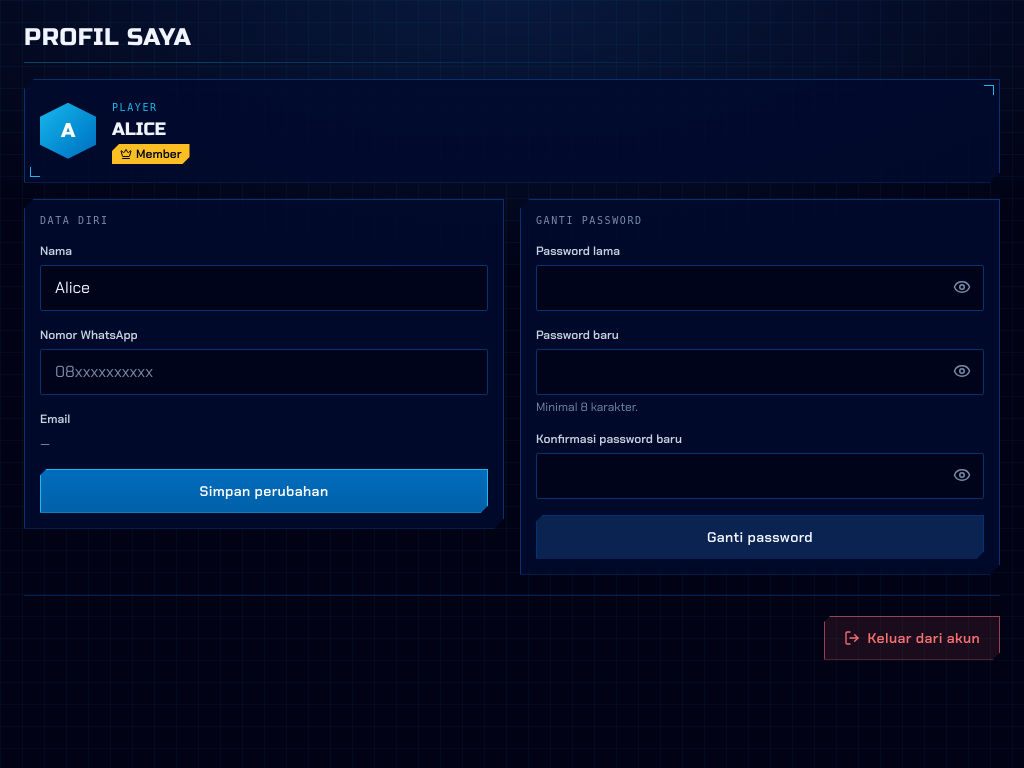
Test: ResetPasswordView › 2c review fixes › rate limit (429) shows the server message
Type "salah1234" into the password field labelled "Password lama" at (760,288), box [536,264,984,310]
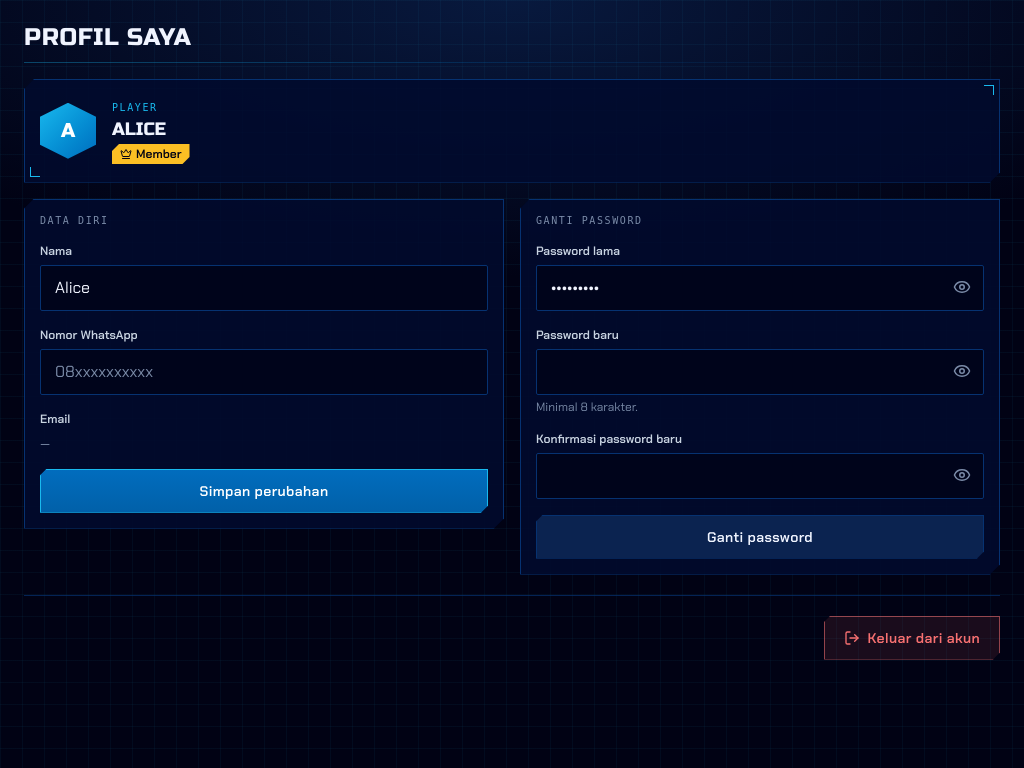
Type "passwordbaru1" into the password field labelled "Password baru" at (760,372), box [536,348,984,394]
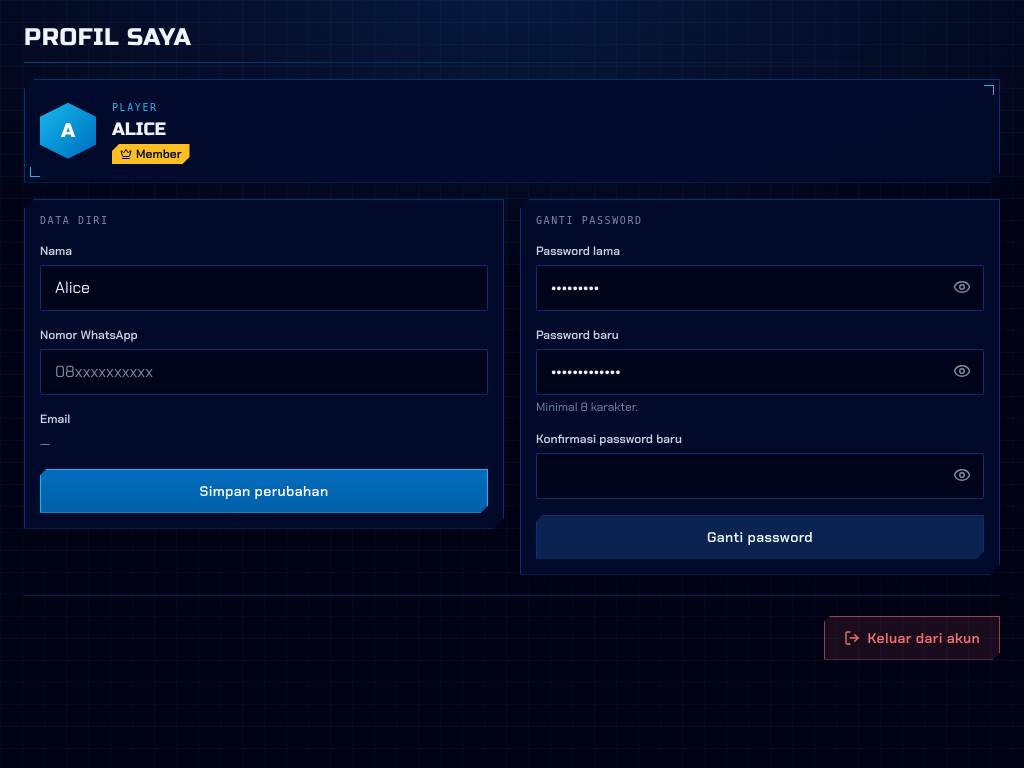
Type "passwordbaru1" into the password field labelled "Konfirmasi password baru" at (760,476), box [536,452,984,498]
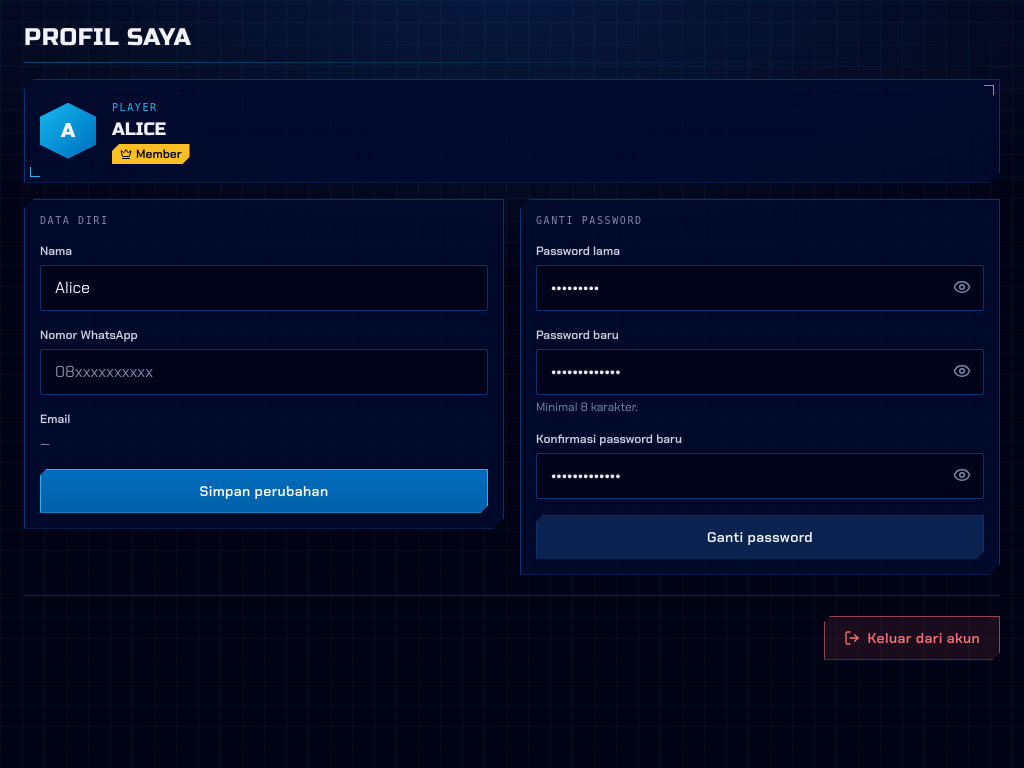
Submit the form named "Ganti password", box [536,242,984,558]
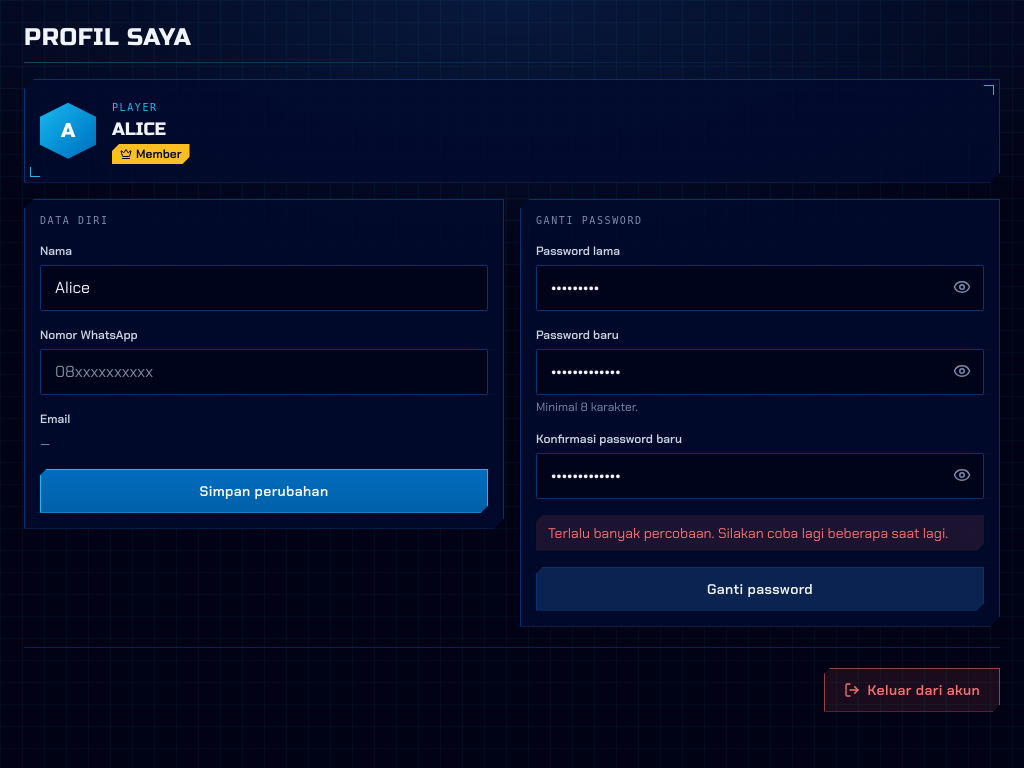
Now the message "Terlalu banyak percobaan. Silakan coba lagi beberapa saat lagi." is shown, box [536,514,984,550]
